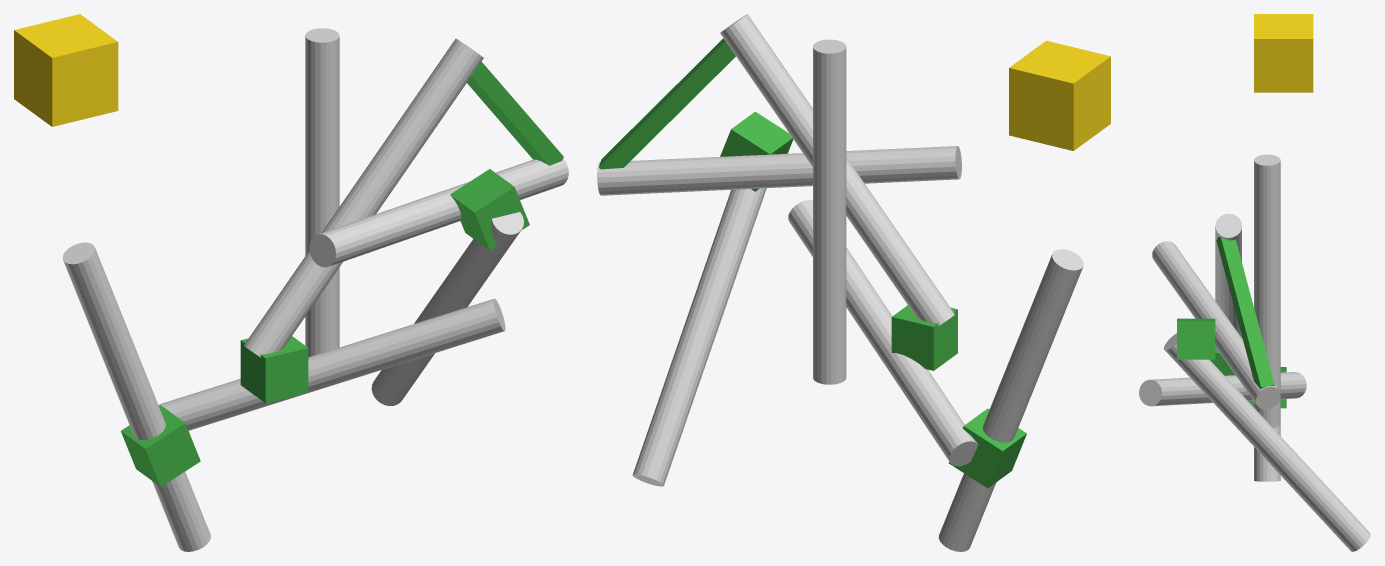
Rendered from tubes2020.obj.
The picture shows the model from 3 angles, left to right: view 1: azimuth 30°, elevation 25°; view 2: azimuth 150°, elevation 25°; view 3: azimuth 270°, elevation 25°; orthographic projection. The views are drawn at different scales.
Visible parts, largest first — view 1: group_0_16448250, group_0_4634441, group_0_16768282; view 2: group_0_16448250, group_0_4634441, group_0_16768282; view 3: group_0_16448250, group_0_4634441, group_0_16768282.
Part boxes in pixels (left/top/right/bottom): group_0_16448250: left=62, top=28, right=568, bottom=551; group_0_4634441: left=121, top=61, right=563, bottom=486; group_0_16768282: left=14, top=14, right=118, bottom=126; group_0_16448250: left=597, top=14, right=1083, bottom=551; group_0_4634441: left=599, top=38, right=1026, bottom=488; group_0_16768282: left=1009, top=40, right=1110, bottom=150; group_0_16448250: left=1139, top=154, right=1370, bottom=551; group_0_4634441: left=1177, top=237, right=1286, bottom=408; group_0_16768282: left=1254, top=14, right=1313, bottom=92.
Bounding box in the file's own units: 157 × 154 × 78.23.
